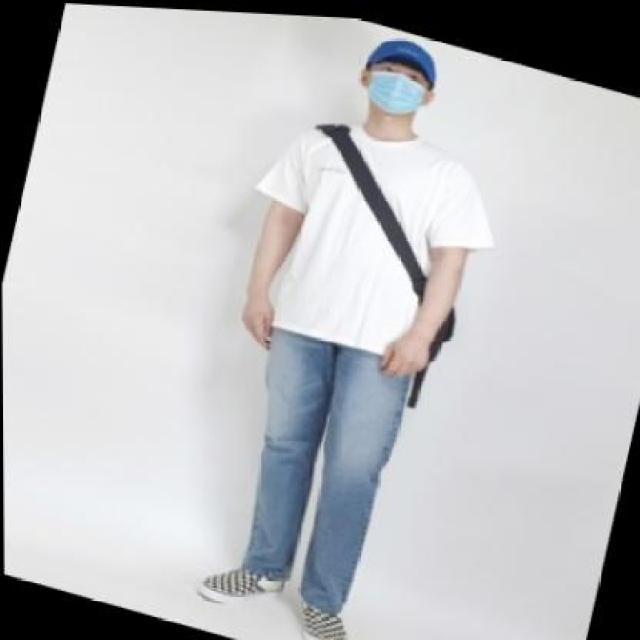hat: (360, 21, 446, 90)
